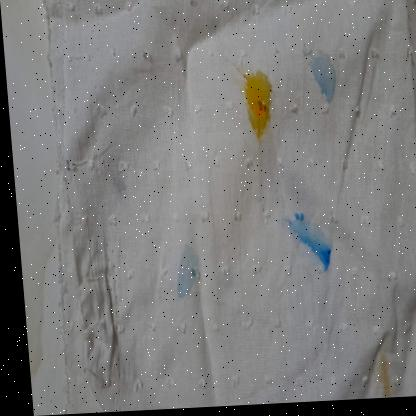spot: (234, 65, 272, 144), (302, 46, 339, 111), (167, 247, 196, 309), (365, 351, 388, 402), (278, 214, 302, 250), (311, 235, 328, 278), (301, 223, 315, 262)
